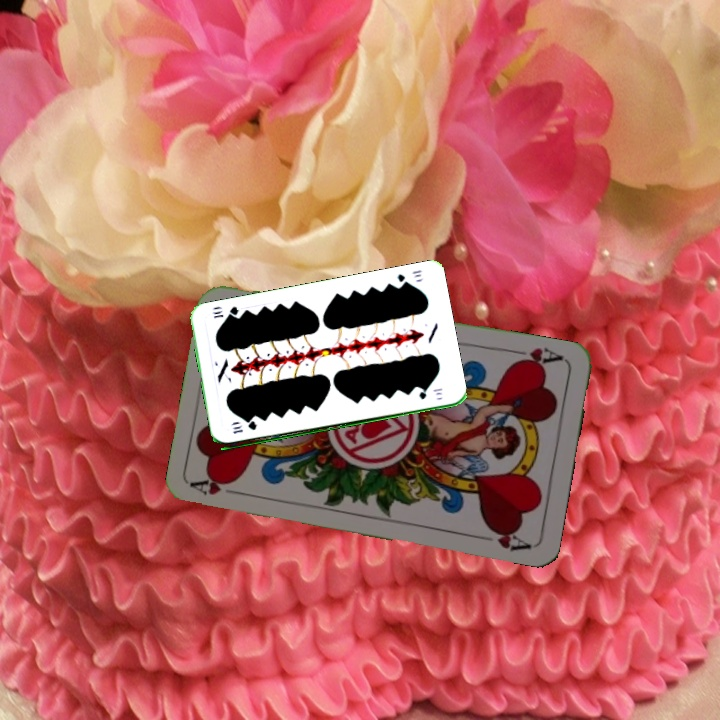G10: (393, 266, 425, 289), (229, 419, 259, 436)
HA: (508, 343, 566, 371), (189, 472, 248, 498)
